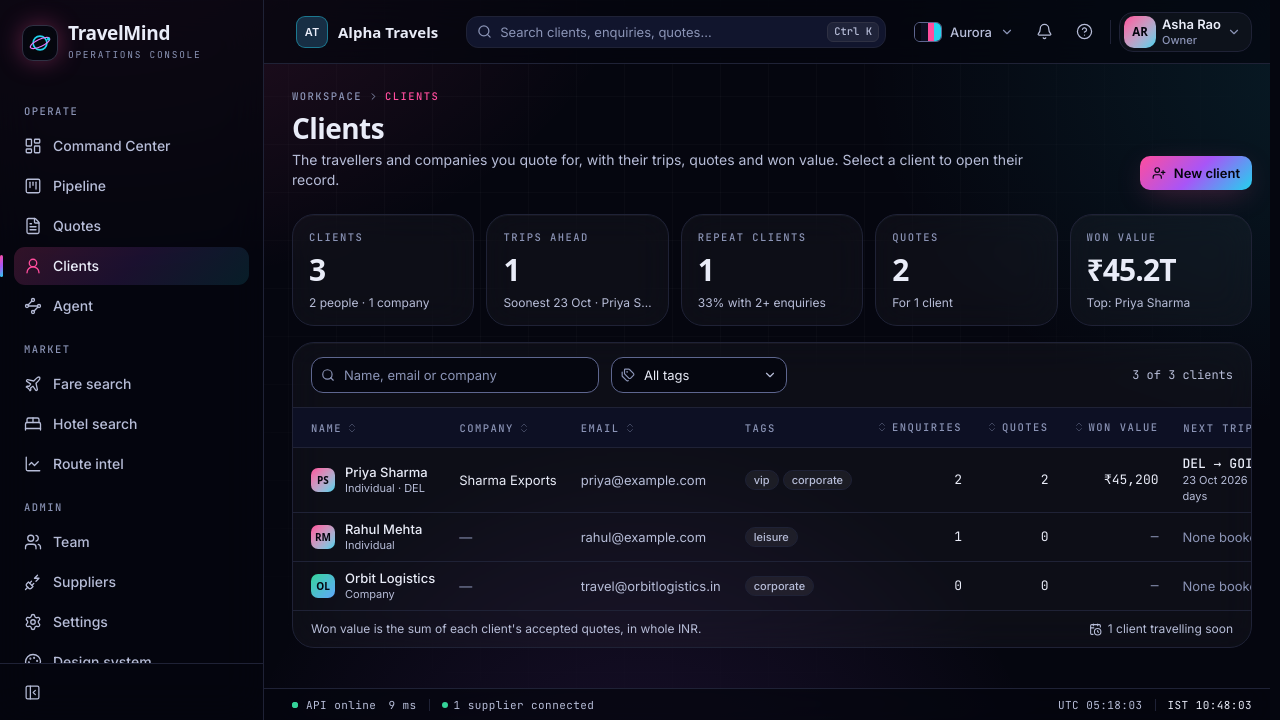
search and the tag filter ask the server and narrow the rows
Expected: the text "Rahul Mehta" is shown, [345,521,422,537]
Type "sharma" into the search field named "Search clients" at (455, 375), box [311,357,599,393]
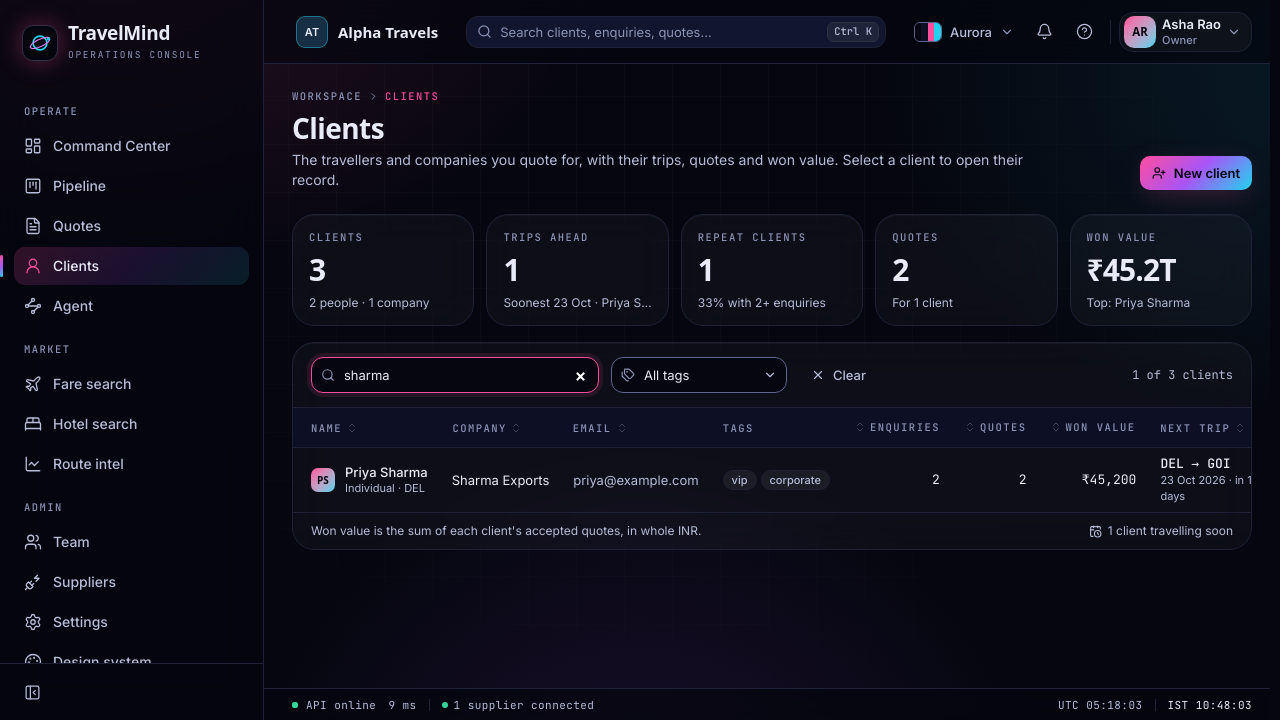
Expected: the text "Priya Sharma" is shown, [345,464,428,480]
Expected: the text "Rahul Mehta" is gone
Clear the search field named "Search clients" at (455, 375), box [311,357,599,393]
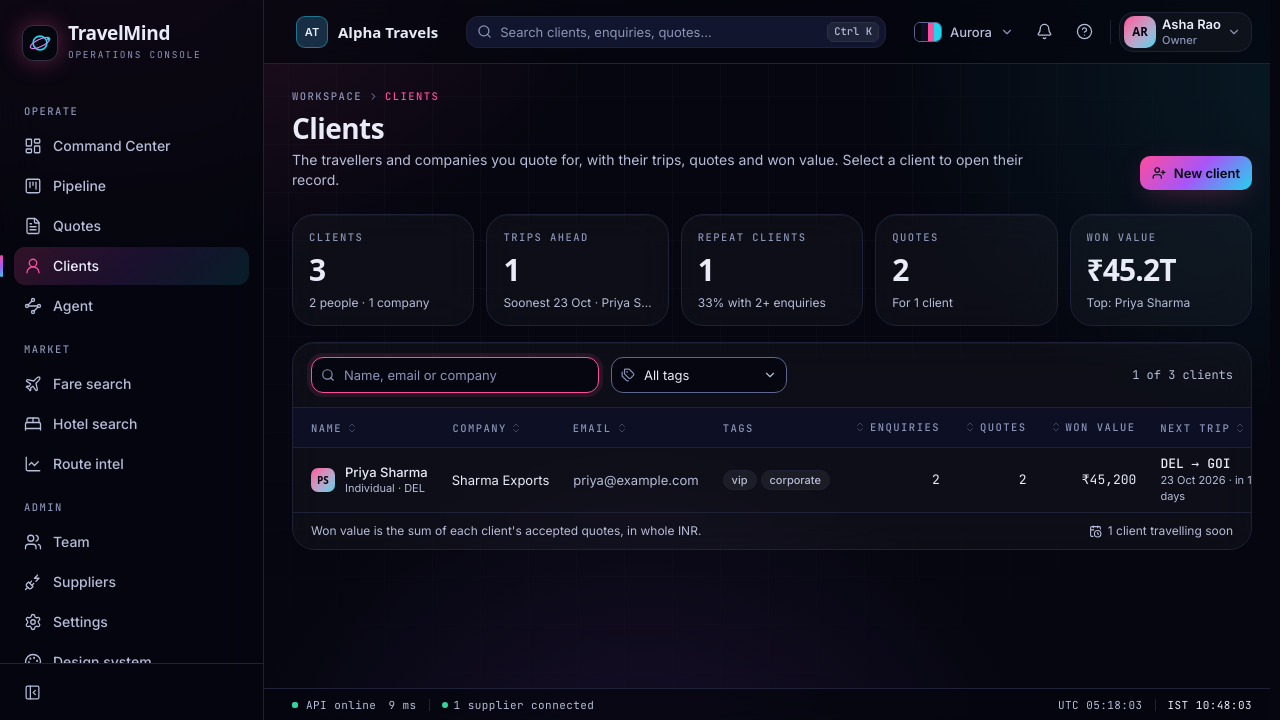
Select "corporate (2)" in the dropdown named "Filter by tag" at (699, 375), box [611,357,787,393]
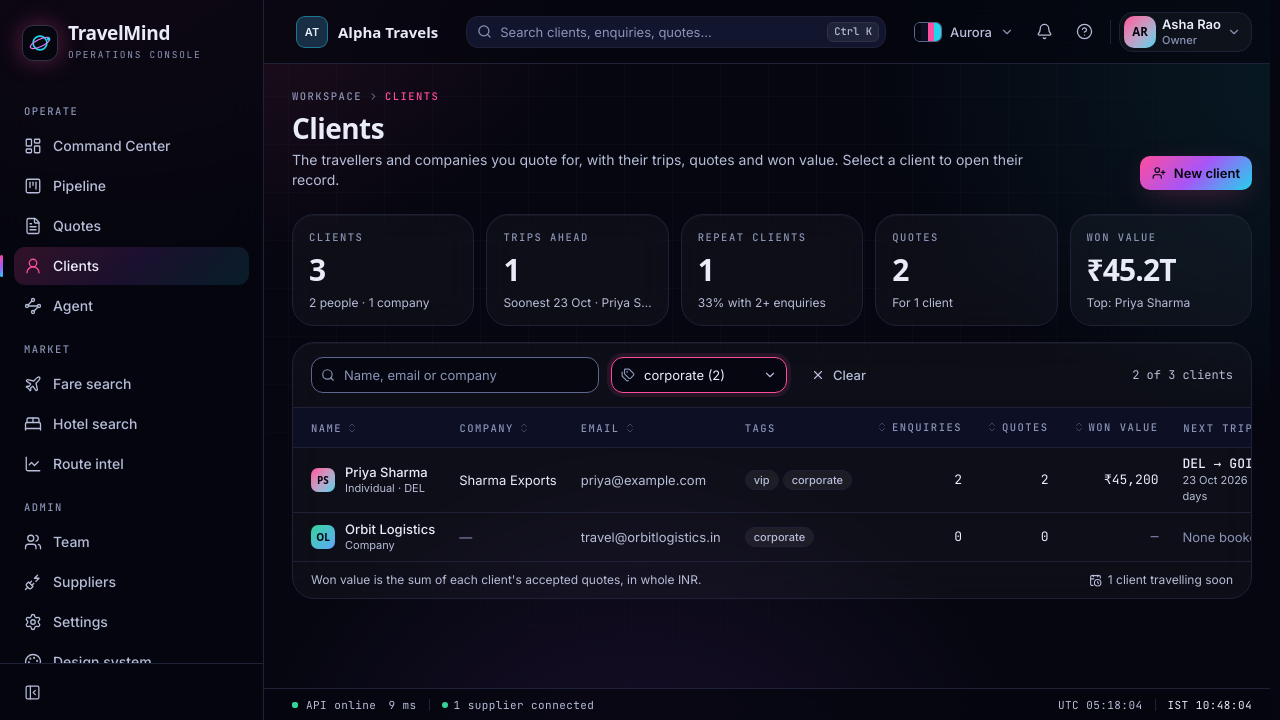
Expected: the text "Rahul Mehta" is not shown
Expected: the text "Orbit Logistics" is shown, [345,521,435,537]
